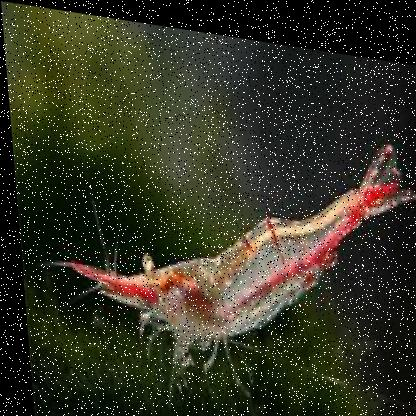shrimp: (41, 84, 415, 405)
